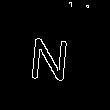N_N: (33, 28, 77, 82)
